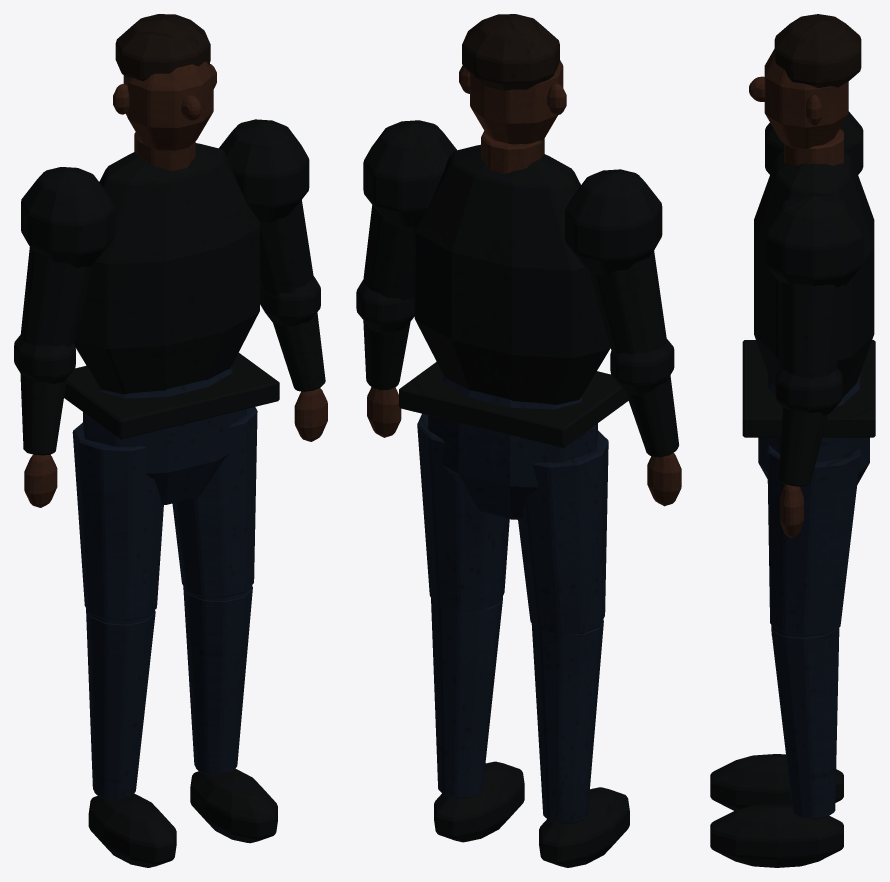
Rendered from PROP-016720A1701E_lod1.glb.
The picture shows the model from 3 angles, left to right: view 1: azimuth 30°, elevation 25°; view 2: azimuth 150°, elevation 25°; view 3: azimuth 270°, elevation 25°; orthographic projection. The views are drawn at different scales.
Parts seen in each view (by area): view 1: torso.008, thigh.008, calf.008, shoulder.008, shoe.008, upper_arm.008, belt.008, pelvis.008, head.008, forearm.008, hair_cap.008, elbow_protection.004 (+3 smaller); view 2: torso.008, thigh.008, calf.008, shoulder.008, pelvis.008, upper_arm.008, shoe.008, belt.008, hair_cap.008, forearm.008, head.008, elbow_protection.004 (+3 smaller); view 3: thigh.008, torso.008, shoe.008, calf.008, shoulder.008, belt.008, upper_arm.008, hair_cap.008, head.008, forearm.008, elbow_protection.004, pelvis.008 (+4 smaller).
Boxes of the visible parts, x1,y1,x2,y2 form: torso.008: (74, 143, 259, 394); thigh.008: (72, 407, 257, 620); calf.008: (86, 586, 252, 799); shoulder.008: (21, 119, 309, 267); shoe.008: (88, 768, 277, 867); upper_arm.008: (20, 200, 313, 346); belt.008: (64, 353, 279, 439); pelvis.008: (83, 366, 246, 504); head.008: (123, 61, 213, 151); forearm.008: (20, 312, 325, 455); hair_cap.008: (115, 14, 210, 81); elbow_protection.004: (14, 276, 320, 383); torso.008: (414, 144, 610, 404); thigh.008: (417, 413, 608, 635); calf.008: (431, 596, 603, 823); shoulder.008: (363, 120, 662, 276); pelvis.008: (428, 376, 597, 519); upper_arm.008: (363, 205, 666, 353); shoe.008: (434, 761, 629, 867); belt.008: (399, 362, 628, 448); hair_cap.008: (462, 14, 559, 90); forearm.008: (363, 320, 678, 457); head.008: (470, 60, 563, 144); elbow_protection.004: (356, 280, 674, 395); thigh.008: (767, 445, 860, 636); torso.008: (754, 150, 874, 397); shoe.008: (710, 754, 843, 867); calf.008: (771, 625, 839, 819); shoulder.008: (765, 111, 863, 287); belt.008: (742, 340, 875, 437); upper_arm.008: (780, 282, 844, 378); hair_cap.008: (774, 14, 861, 88); head.008: (764, 49, 848, 149); forearm.008: (778, 408, 827, 486); elbow_protection.004: (775, 366, 842, 415); pelvis.008: (758, 374, 869, 484).
Bounding box in the file's own units: 0.7126 × 1.84 × 0.3357.
4 materials, 4 textured.
